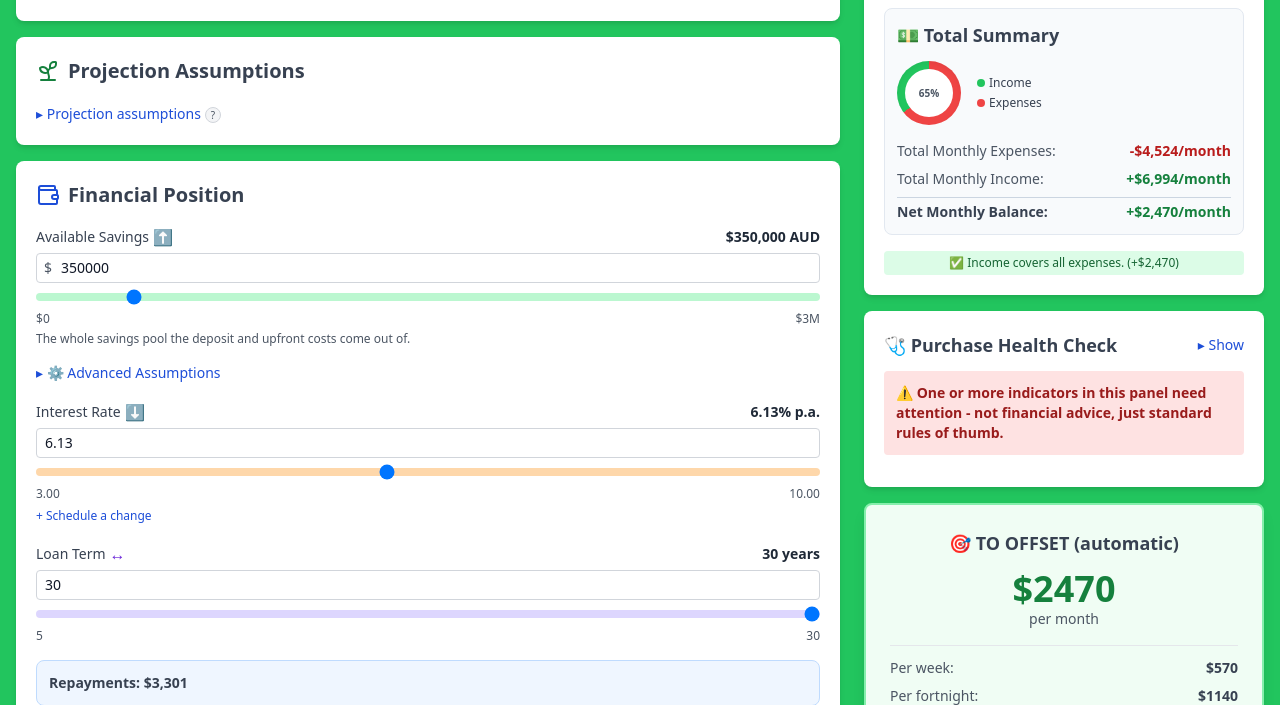
Test: Housing Cost Ratio on before-tax income (TODO-151) › reads 44% Caution on the shipped default instead of 55% High risk
(page scrolled)
Click the button "▸ Show" at (1221, 345), box [1198,335,1244,355]
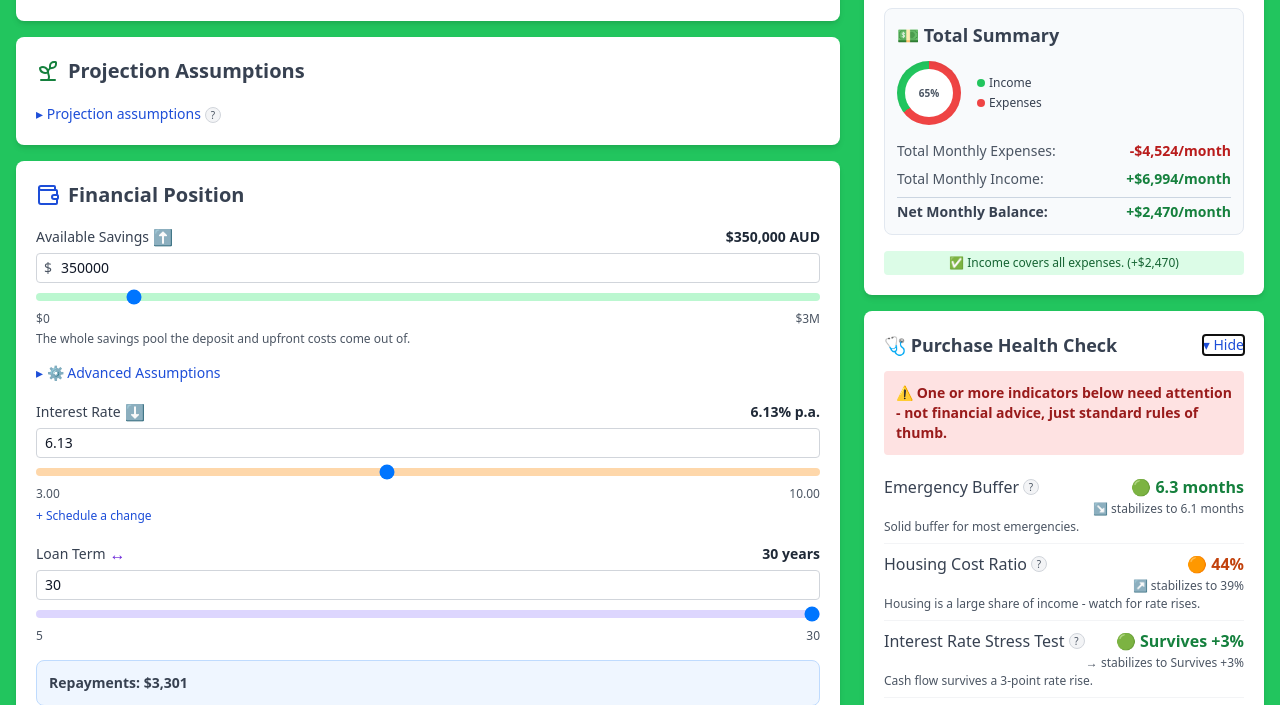
Now the text "Housing is a large share of income - watch for rate rises." is shown, box [884,596,1244,612]
